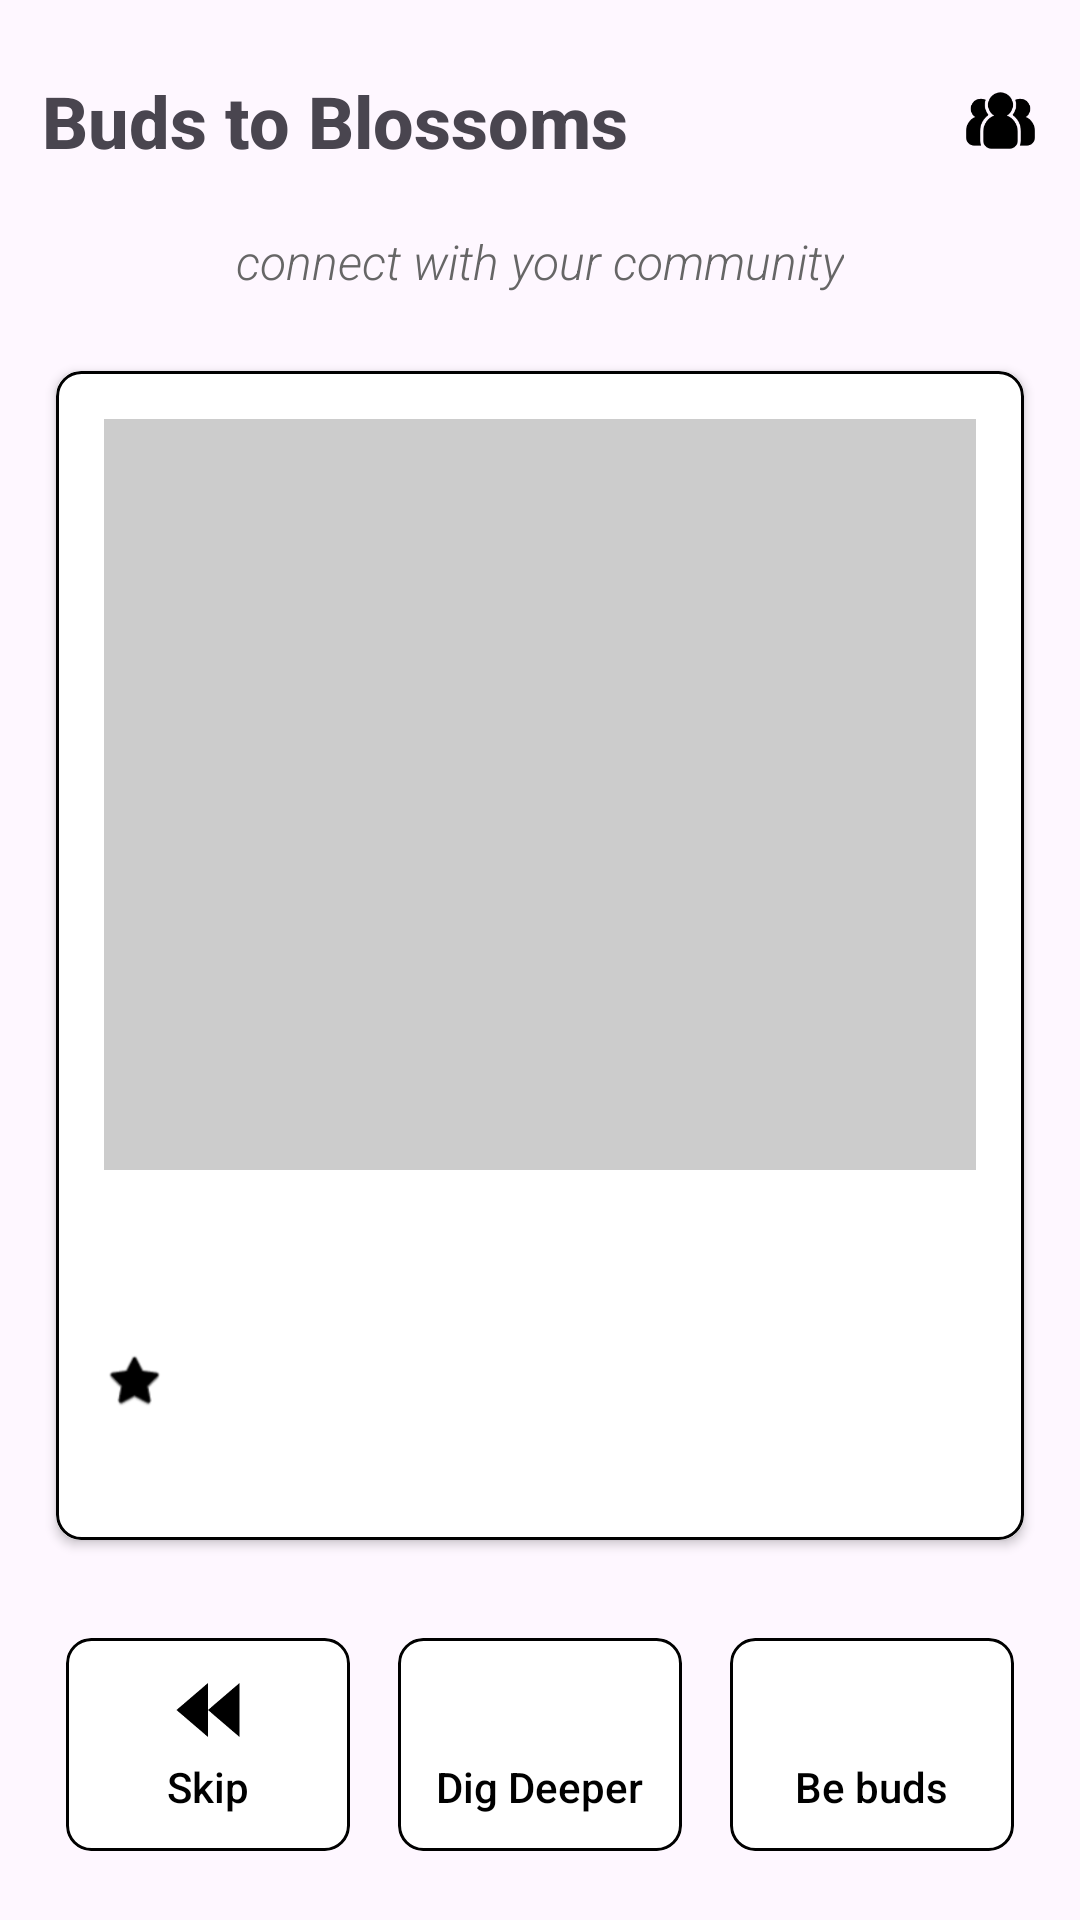

Point at icon controls on the screen. Image size 1080*1920, points as (x,y).
My Buddies: (1000,120)
star: (134,1380)
